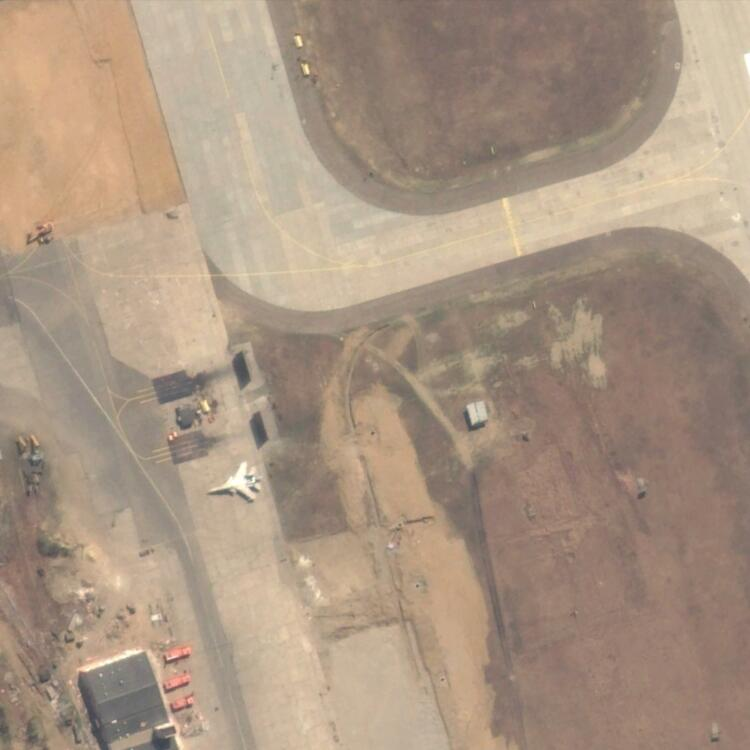A19: (206, 457, 265, 506)
